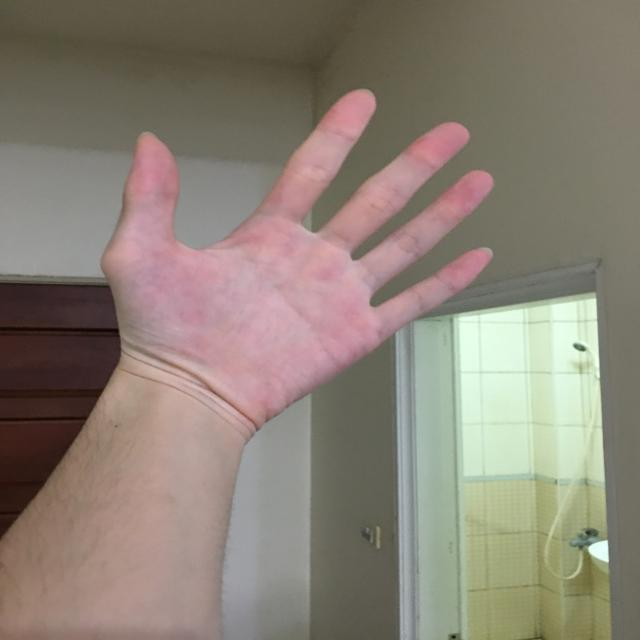no_glove: (91, 75, 512, 433)
